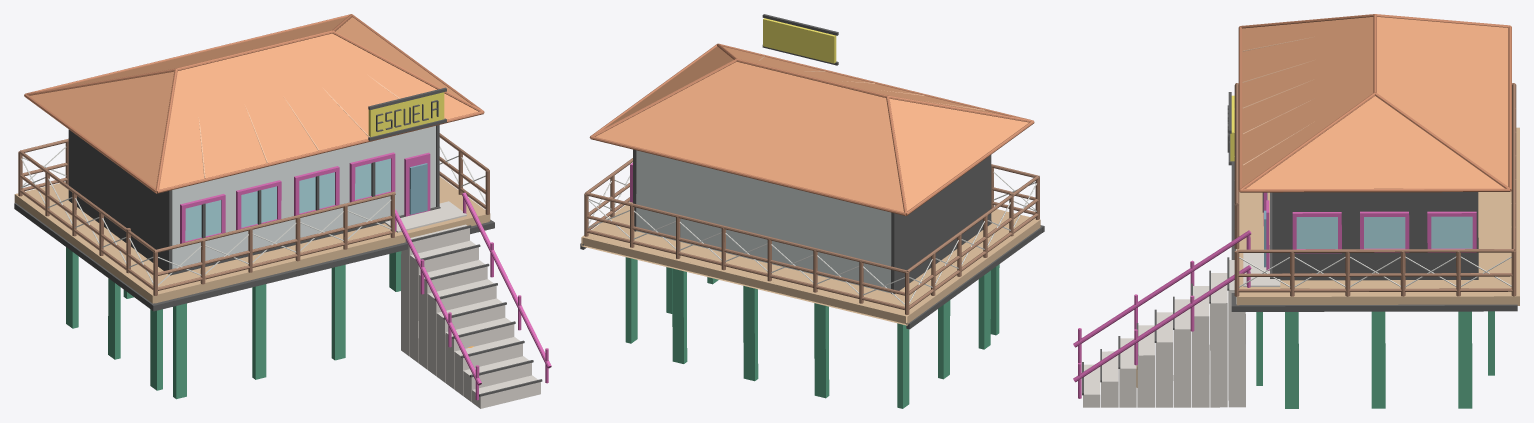
Rendered from EscuelaCasilla73.glb.
3 views of the same model, side by side, from view 1: azimuth 30°, elevation 25°; view 2: azimuth 150°, elevation 25°; view 3: azimuth 270°, elevation 25° (orthographic). The views are drawn at different scales.
Visible parts, largest first — view 1: techo_naranja_a_dos_aguas, segundo_piso_blanco, balcon_plataforma, linea_esquina_izquierda, borde_balcon_frente, escalon_7, rotulo_amarillo_ESCUELA, escalon_6, escalon_5, escalon_8, escalon_4, escalon_3 (+33 smaller); view 2: techo_naranja_a_dos_aguas, segundo_piso_blanco, balcon_plataforma, linea_esquina_izquierda, rotulo_amarillo_ESCUELA, pilar_lateral_verde_0.003, pilar_lateral_verde_1.003, pilar_lateral_verde_2.003, baranda_atras_3.55, linea_techo_2, baranda_atras_2.73, baranda_atras_3.05 (+15 smaller); view 3: techo_naranja_a_dos_aguas, linea_esquina_derecha, balcon_plataforma, escalon_7, borde_balcon_lado, escalon_6, escalon_8, escalon_5, escalon_4, pilar_lateral_verde_1.002, pilar_lateral_verde_2.002, ventana_superior_lateral_2_vidrio (+25 smaller).
Boxes of the visible parts, left/top/right/bottom form: techo_naranja_a_dos_aguas: left=29, top=17, right=478, bottom=189; segundo_piso_blanco: left=172, top=126, right=435, bottom=268; balcon_plataforma: left=14, top=176, right=490, bottom=303; linea_esquina_izquierda: left=68, top=129, right=172, bottom=274; borde_balcon_frente: left=151, top=221, right=494, bottom=311; escalon_7: left=410, top=240, right=478, bottom=362; rotulo_amarillo_ESCUELA: left=368, top=92, right=444, bottom=136; escalon_6: left=418, top=260, right=487, bottom=369; escalon_5: left=427, top=279, right=496, bottom=376; escalon_8: left=401, top=224, right=469, bottom=356; escalon_4: left=436, top=298, right=505, bottom=382; escalon_3: left=445, top=317, right=514, bottom=388; techo_naranja_a_dos_aguas: left=595, top=46, right=1028, bottom=211; segundo_piso_blanco: left=636, top=150, right=891, bottom=292; balcon_plataforma: left=581, top=202, right=1040, bottom=325; linea_esquina_izquierda: left=891, top=155, right=991, bottom=294; rotulo_amarillo_ESCUELA: left=763, top=18, right=836, bottom=63; pilar_lateral_verde_0.003: left=672, top=268, right=687, bottom=363; pilar_lateral_verde_1.003: left=743, top=286, right=758, bottom=381; pilar_lateral_verde_2.003: left=814, top=303, right=829, bottom=398; baranda_atras_3.55: left=585, top=192, right=907, bottom=272; linea_techo_2: left=590, top=136, right=905, bottom=215; baranda_atras_2.73: left=586, top=229, right=904, bottom=309; baranda_atras_3.05: left=587, top=215, right=904, bottom=295; techo_naranja_a_dos_aguas: left=1242, top=17, right=1508, bottom=188; linea_esquina_derecha: left=1272, top=192, right=1478, bottom=280; balcon_plataforma: left=1236, top=127, right=1519, bottom=305; escalon_7: left=1210, top=273, right=1227, bottom=407; borde_balcon_lado: left=1233, top=304, right=1517, bottom=311; escalon_6: left=1192, top=286, right=1209, bottom=407; escalon_8: left=1228, top=260, right=1245, bottom=407; escalon_5: left=1173, top=299, right=1191, bottom=407; escalon_4: left=1155, top=312, right=1173, bottom=407; pilar_lateral_verde_1.002: left=1371, top=311, right=1385, bottom=408; pilar_lateral_verde_2.002: left=1458, top=311, right=1472, bottom=408; ventana_superior_lateral_2_vidrio: left=1431, top=216, right=1472, bottom=248.
Bounding box in the file's own units: 7.65 × 5.9 × 8.45.
